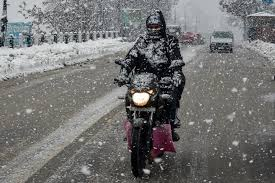motorcycle: (113, 57, 186, 176)
